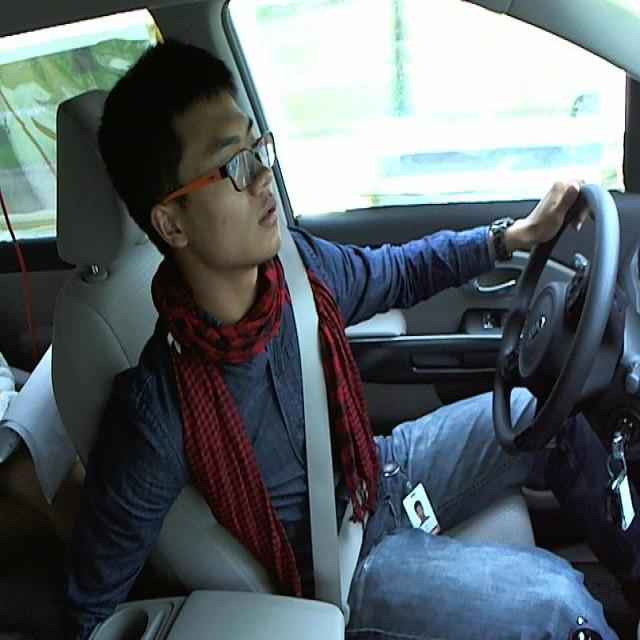seatbelt: (274, 269, 374, 592)
